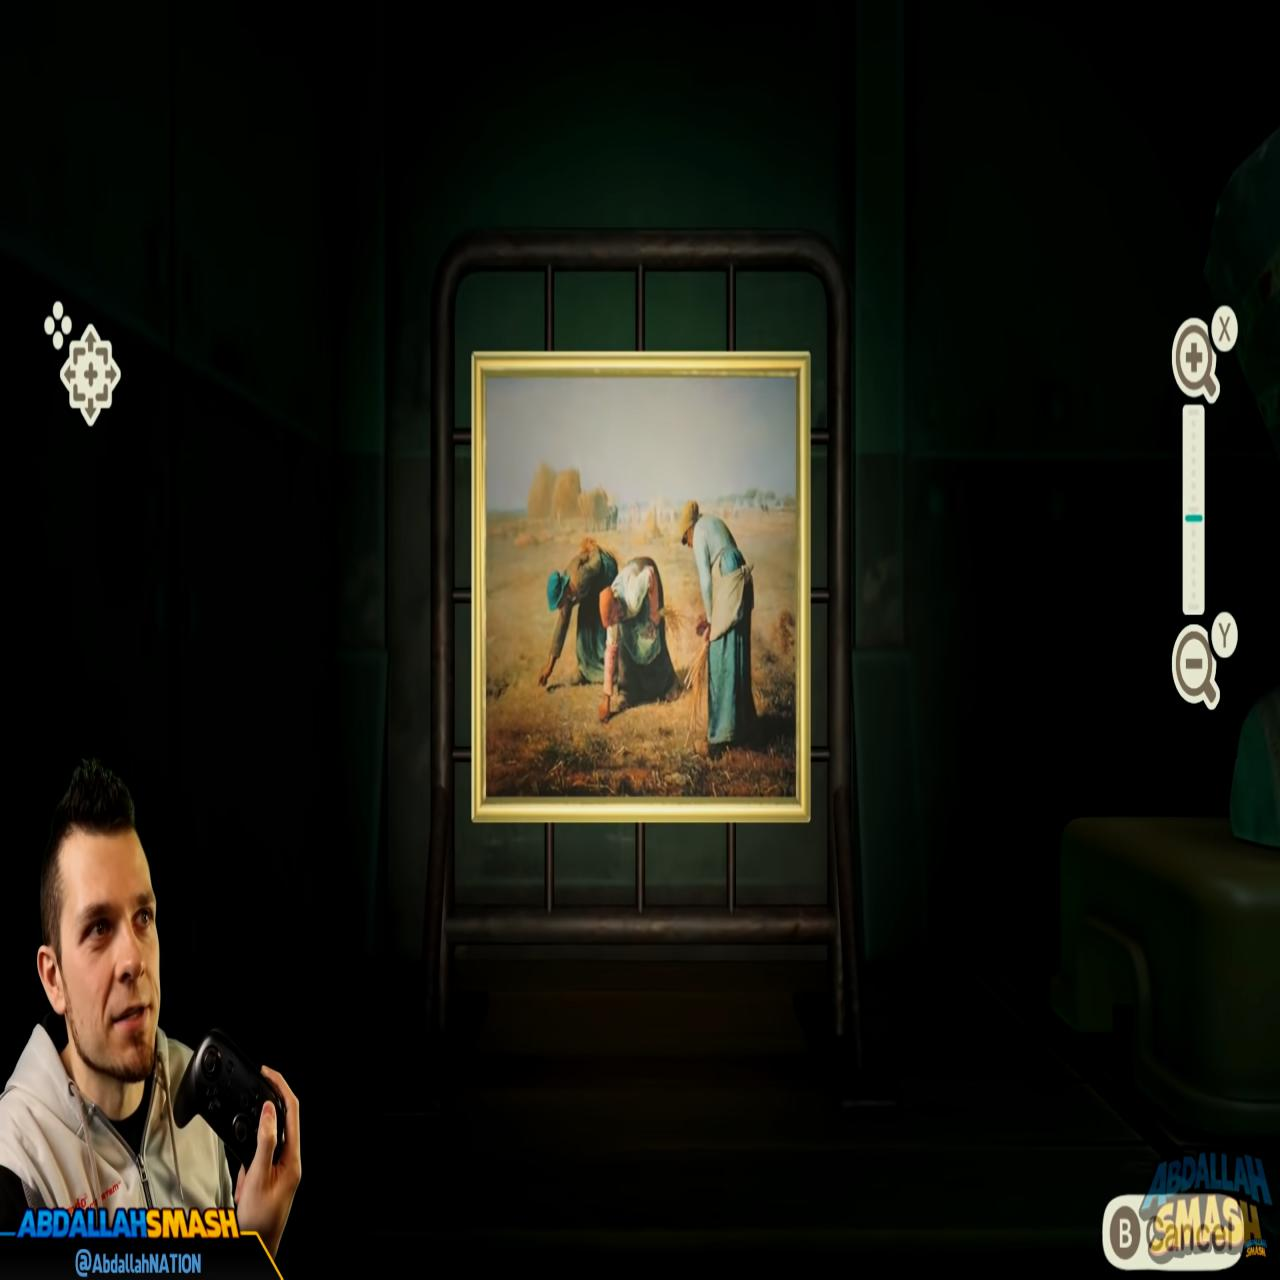Gleaners: (488, 380, 799, 794)
